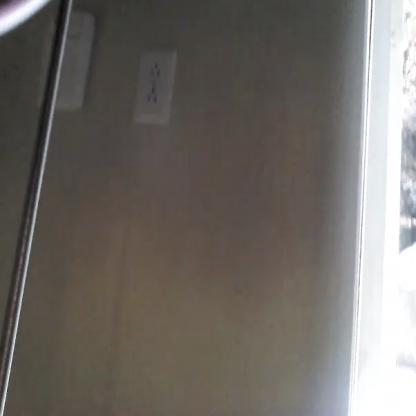OUTLET: (130, 47, 178, 125)
